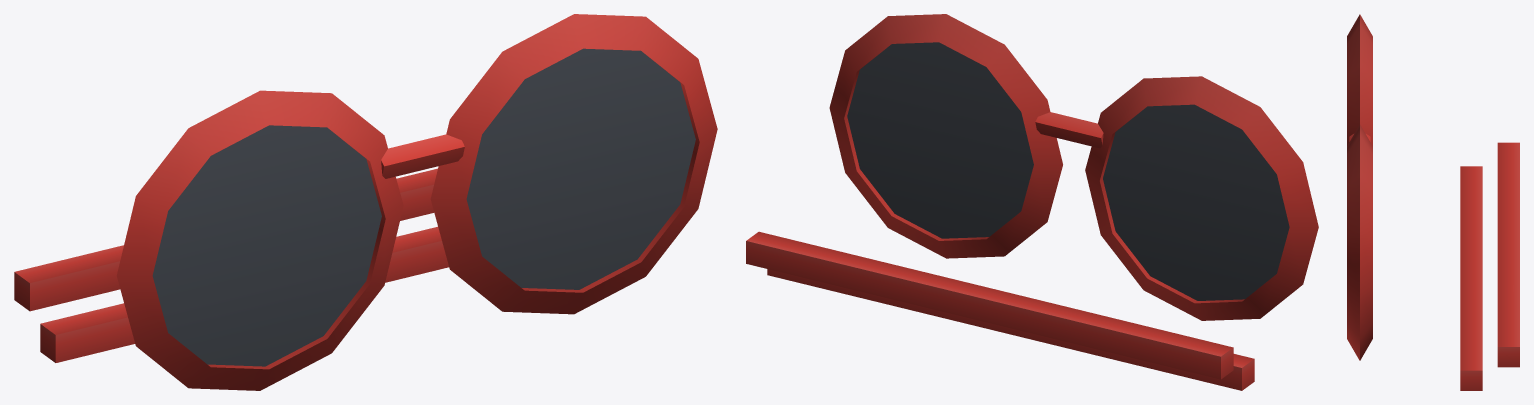
File: ck_sunglasses.fbx
The picture shows the model from 3 angles, left to right: view 1: azimuth 30°, elevation 25°; view 2: azimuth 150°, elevation 25°; view 3: azimuth 270°, elevation 25°; orthographic projection. The views are drawn at different scales.
Parts seen in each view (by area): view 1: ck_sunglasses; view 2: ck_sunglasses; view 3: ck_sunglasses.
Part boxes in pixels (x1,y1,x2,y2): ck_sunglasses: (14,14,717,390); ck_sunglasses: (746,14,1318,390); ck_sunglasses: (1347,14,1519,390).
Size of the model in its own units: 40 by 19.1 by 13.87.
